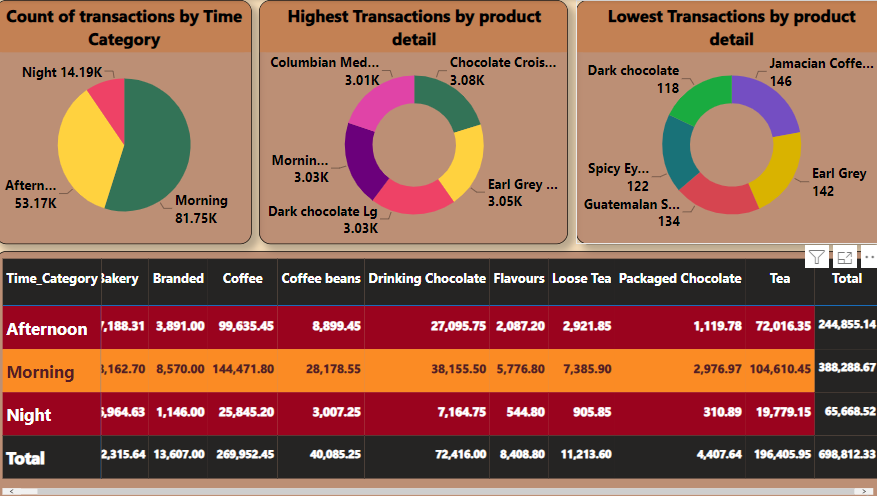

What the dashboard file says about the page in this screenshot:
{"tool":"powerbi","page":{"name":"Page 1","canvas":[1280,720],"ordinal":1},"visuals":[{"type":"pieChart","title":"Count of transactions by Time Category","fields":{"Category":["Transactions.Time_Category"],"Y":["CountNonNull(Transactions.transaction_id)"]},"box":[0,0,369.3,350.7],"z":0},{"type":"pivotTable","fields":{"Rows":["Transactions.Time_Category"],"Columns":["Transactions.product_category"],"Values":["Sum(Transactions.Revenue)"]},"box":[0,360.7,1280.5,359.3],"z":1000},{"type":"donutChart","title":"Highest Transactions by product detail","fields":{"Category":["Transactions.product_detail"],"Y":["CountNonNull(Transactions.transaction_id)"]},"box":[379.4,0,444.1,350.7],"z":1001},{"type":"donutChart","title":"Lowest Transactions by product detail","fields":{"Category":["Transactions.product_detail"],"Y":["CountNonNull(Transactions.transaction_id)"]},"box":[835,0,445.5,350.7],"z":1002}]}

Visuals, with their boxes in screenshot pixels (x1, y1, x2, y2), scaled from the page's 1280x720 canvas onto the 877x496 screenshot:
"Count of transactions by Time Category" pieChart: [x1=0, y1=0, x2=253, y2=242]
pivotTable - Transactions.Time_Category x Transactions.product_category: [x1=0, y1=248, x2=876, y2=495]
"Highest Transactions by product detail" donutChart: [x1=260, y1=0, x2=564, y2=242]
"Lowest Transactions by product detail" donutChart: [x1=572, y1=0, x2=876, y2=242]
